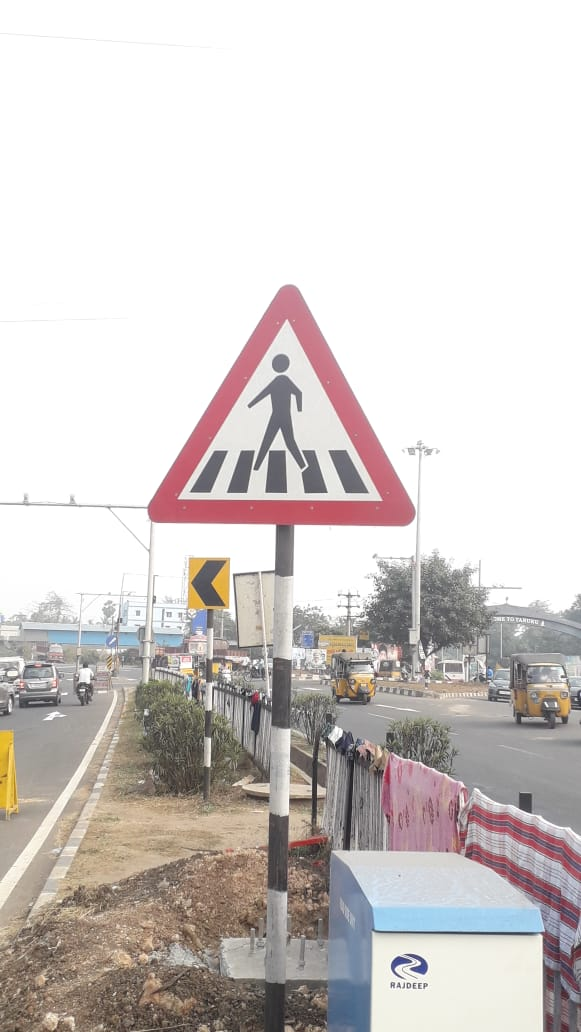pedestrian crossing: (145, 260, 417, 543)
